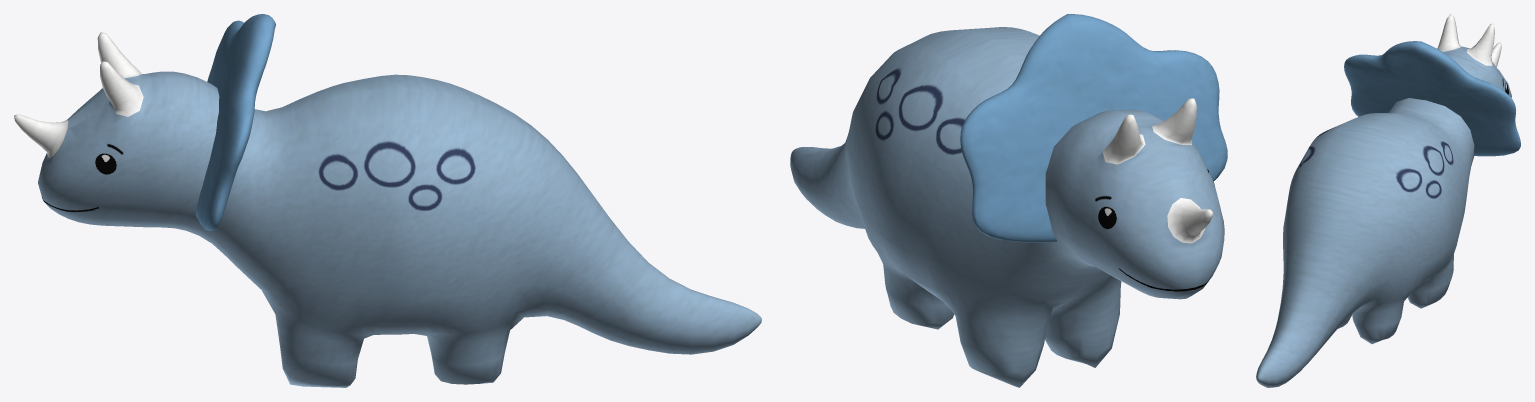
File: Figura dinosaurio.001.glb
3 renders of one model, left to right at view 1: azimuth 30°, elevation 25°; view 2: azimuth 150°, elevation 25°; view 3: azimuth 270°, elevation 25°, orthographic. The views are drawn at different scales.
Parts seen in each view (by area): view 1: Estanteria_Figura dinosaurio.001; view 2: Estanteria_Figura dinosaurio.001; view 3: Estanteria_Figura dinosaurio.001.
Part boxes in pixels (box(x1,y1,x2,y2)): Estanteria_Figura dinosaurio.001: box(14, 14, 761, 387); Estanteria_Figura dinosaurio.001: box(790, 14, 1227, 387); Estanteria_Figura dinosaurio.001: box(1256, 14, 1520, 387).
Size of the model in its own units: 0.1226 by 0.0721 by 0.072.
1 material, 1 textured.
